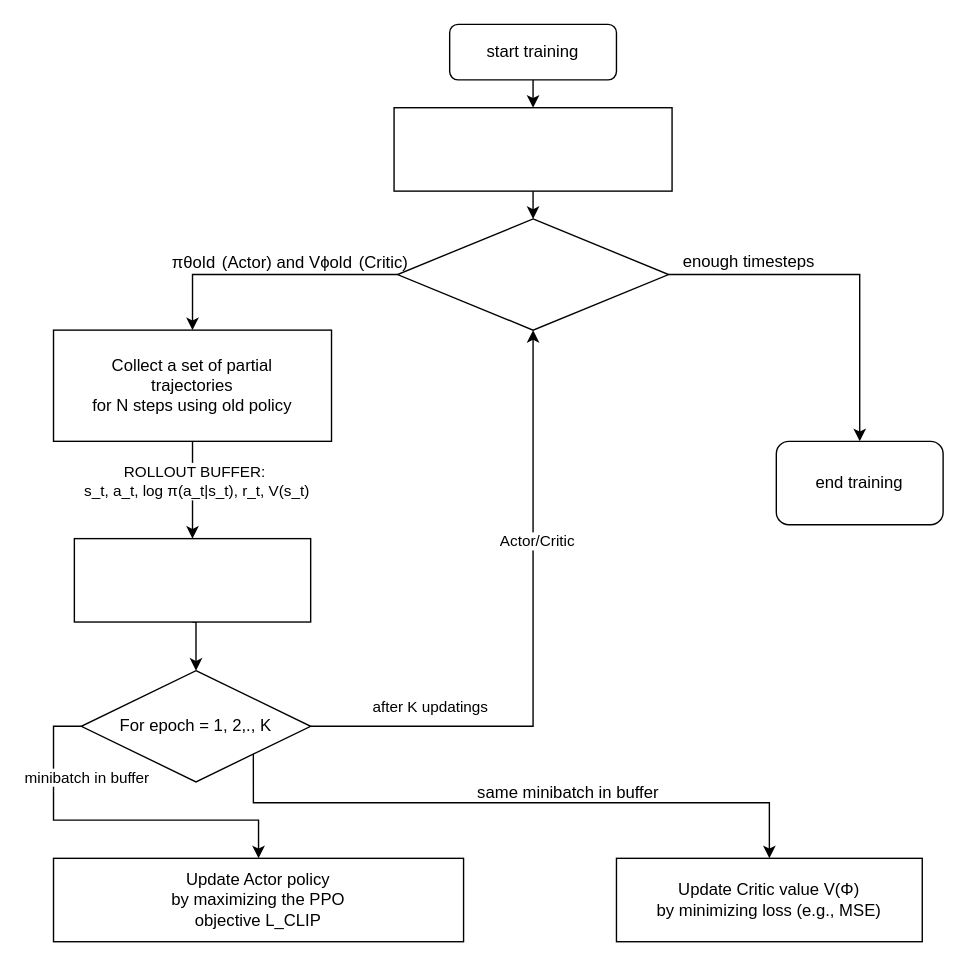
This 967x966 diagram has some shape labels left out. The shapes that lost their labels are listed below. From the top down, each one's box as (x1, y1, x2, y2) in pixels, then its label:
(393, 106, 672, 191): Initialize Actor Network and Critic Network
(396, 218, 669, 330): For timesteps = 1, 2, ...
(73, 537, 311, 622): For each step t, compute Advantage Estimate A_t
